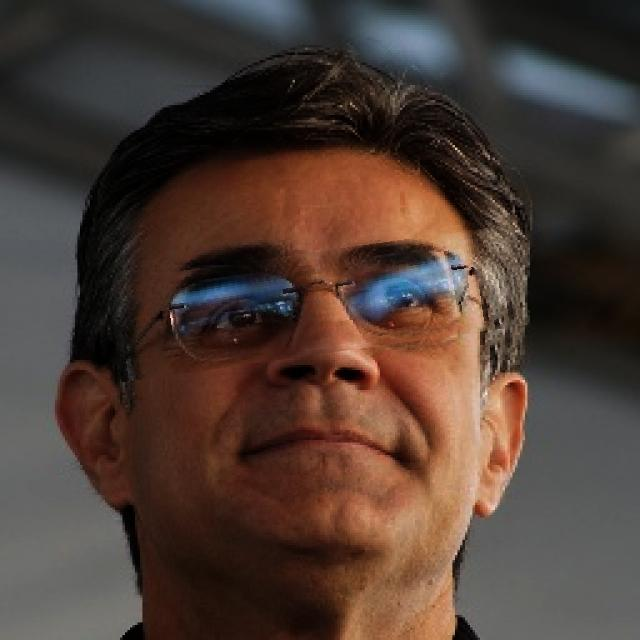glasses: (110, 239, 520, 369)
